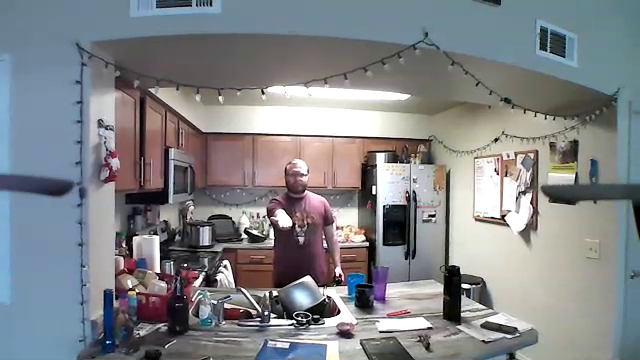land: (266, 212, 296, 233)
